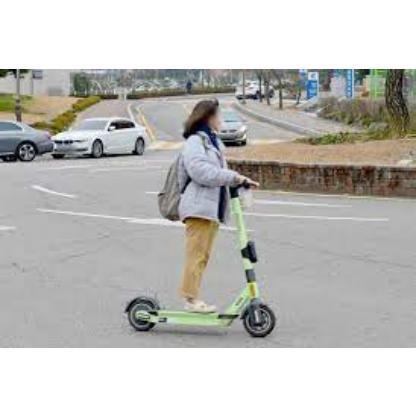with scooter: (124, 101, 276, 338)
